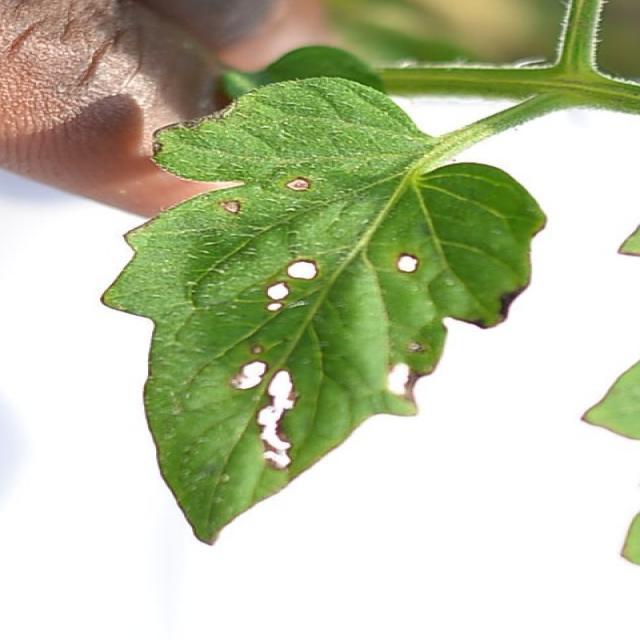infected: (222, 174, 519, 466)
